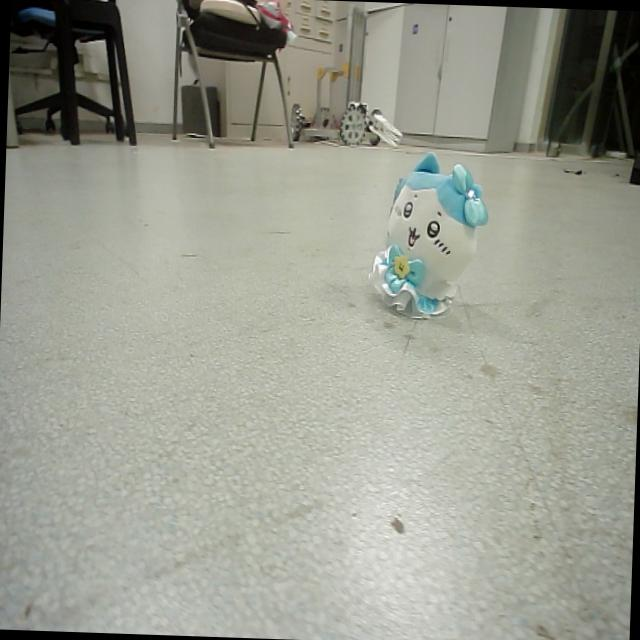xiaoba: (367, 149, 488, 322)
